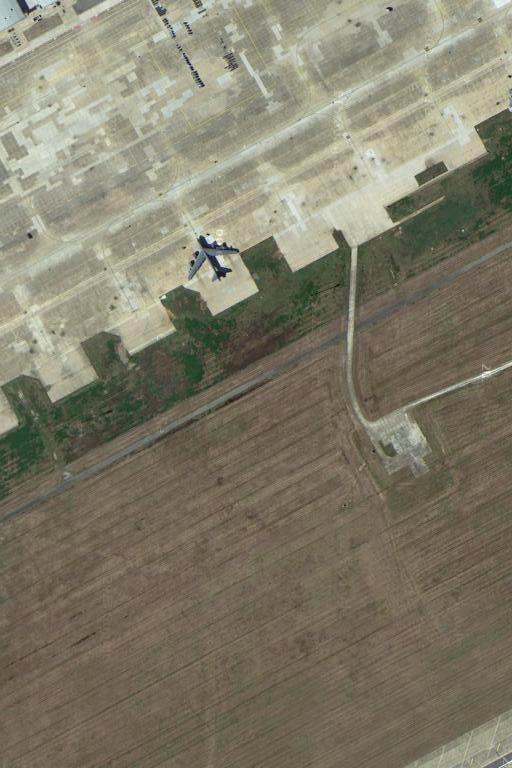B-52: (183, 232, 242, 286)
